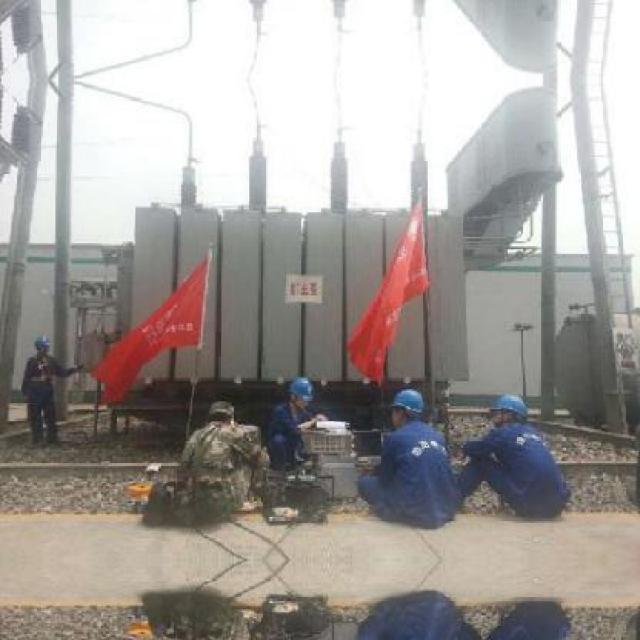hat: (385, 389, 431, 417), (286, 374, 319, 403), (494, 397, 529, 420), (34, 333, 51, 350)
